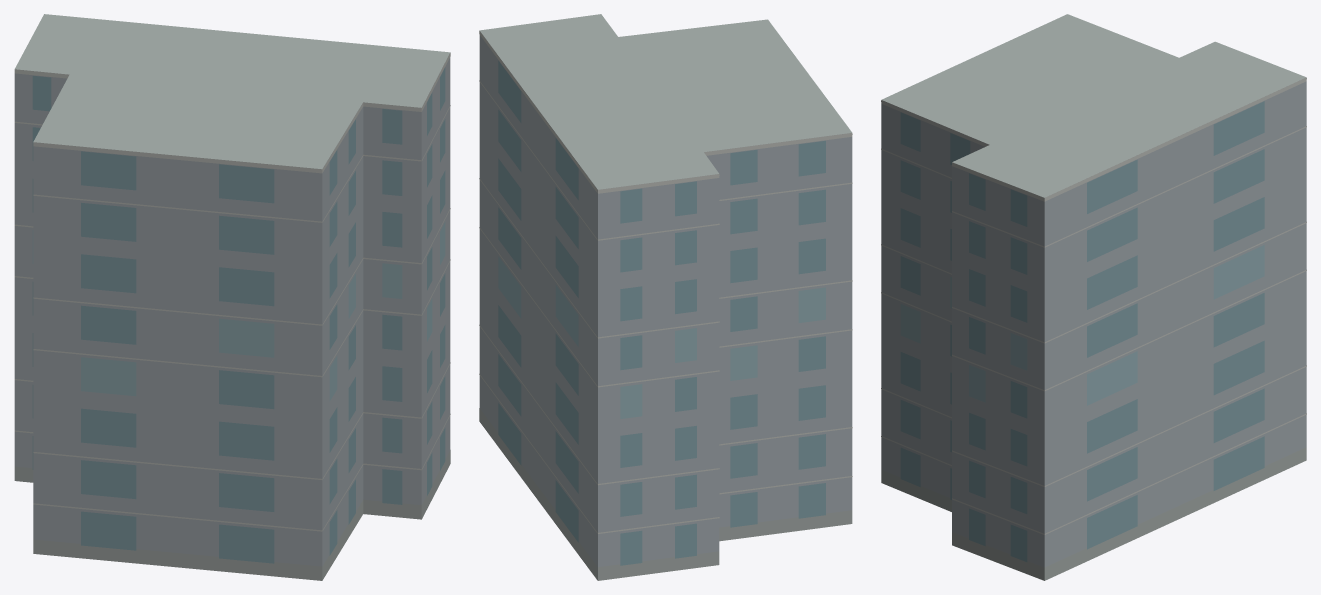
File: survey-upis-32925948.glb
The picture shows the model from 3 angles, left to right: view 1: azimuth 30°, elevation 25°; view 2: azimuth 150°, elevation 25°; view 3: azimuth 270°, elevation 25°; orthographic projection. The views are drawn at different scales.
Parts seen in each view (by area): view 1: survey-upis-32925948.tmp; view 2: survey-upis-32925948.tmp; view 3: survey-upis-32925948.tmp.
Part boxes in pixels (box(x1,y1,x2,y2)): survey-upis-32925948.tmp: box(14, 14, 450, 580); survey-upis-32925948.tmp: box(479, 14, 852, 580); survey-upis-32925948.tmp: box(881, 14, 1306, 580).
Size of the model in its own units: 24.72 by 24 by 24.17.
